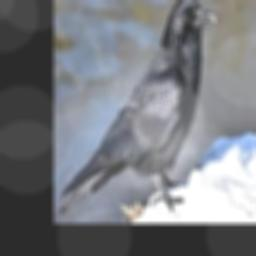Crow: (58, 0, 216, 215)
